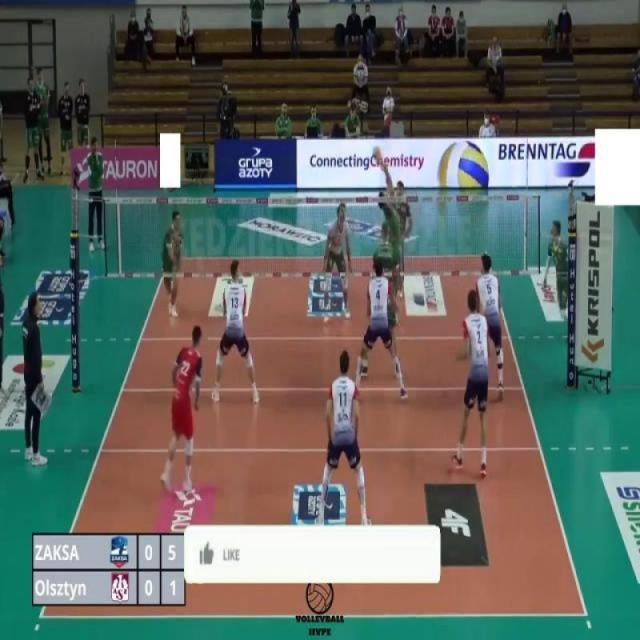volleyball: (434, 137, 490, 190), (371, 143, 382, 163)
